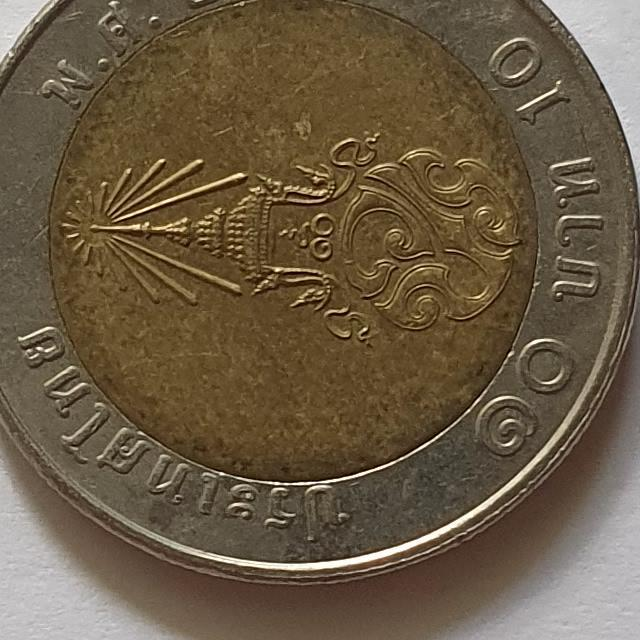10 Bath: (1, 1, 640, 598)
